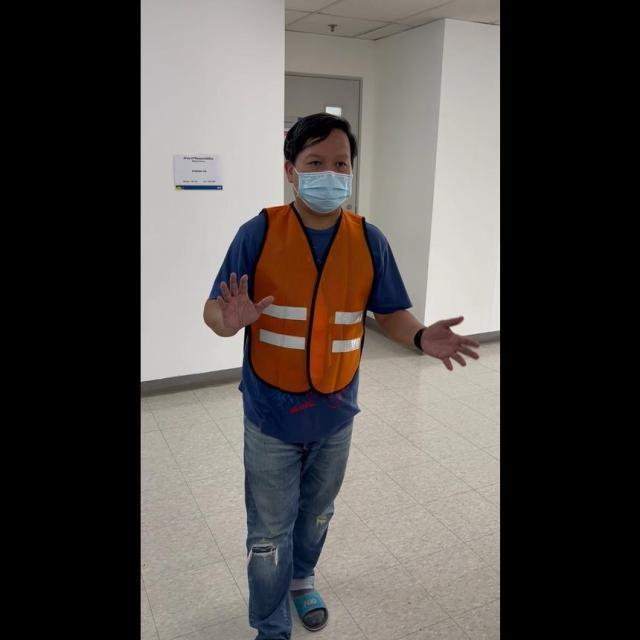bare_hand: (213, 266, 271, 332), (417, 313, 480, 371)
